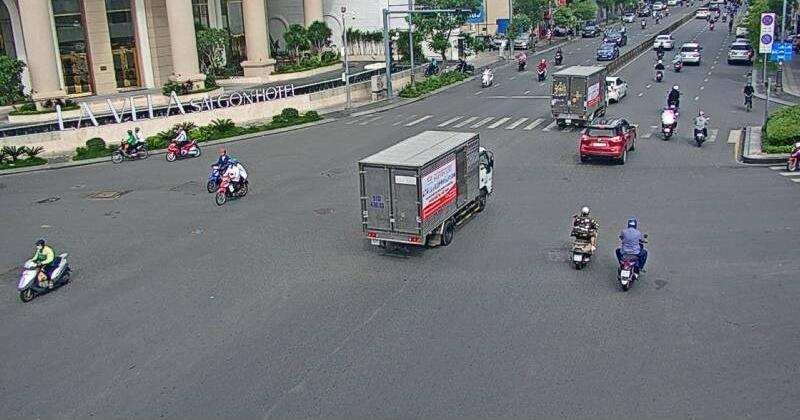xe hoi: (579, 116, 637, 165)
xe may: (15, 238, 70, 301), (613, 217, 645, 291), (568, 204, 596, 268), (215, 159, 250, 204), (112, 125, 147, 162), (164, 126, 197, 161), (658, 103, 678, 140), (692, 108, 710, 144)
xe tai: (360, 130, 498, 256), (551, 65, 610, 129)
